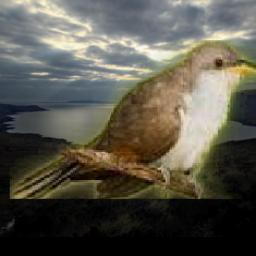Cuckoo: (11, 41, 256, 200)
